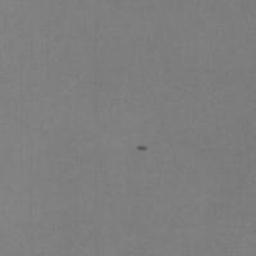Inclusion: (136, 145, 148, 152)
